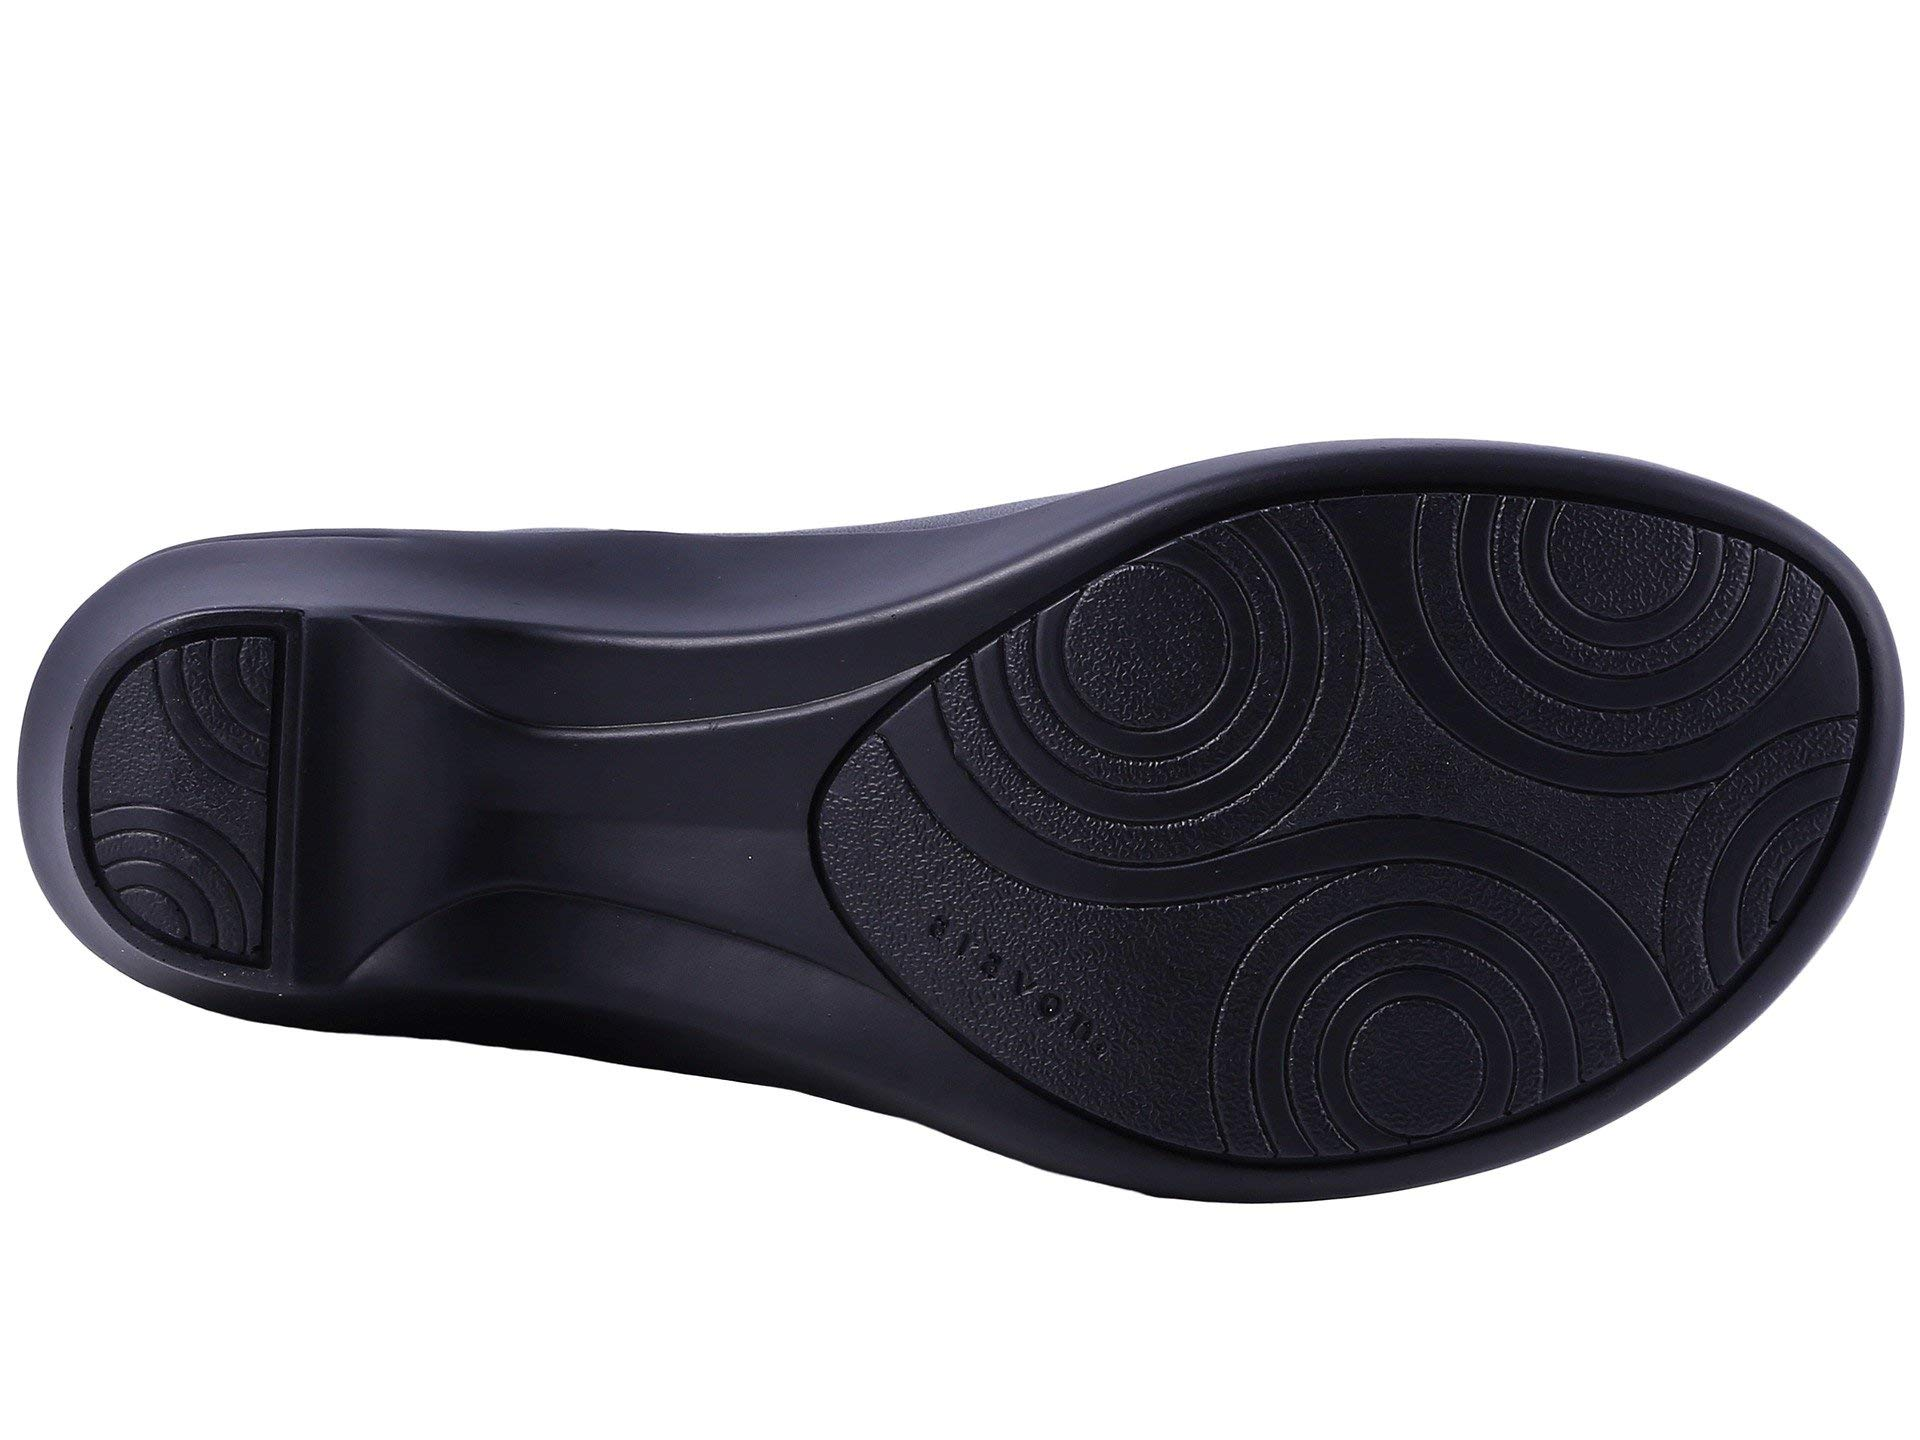circle: (1058, 563, 1246, 749), (1318, 979, 1509, 1148)
exclude: (296, 614, 809, 1053)
